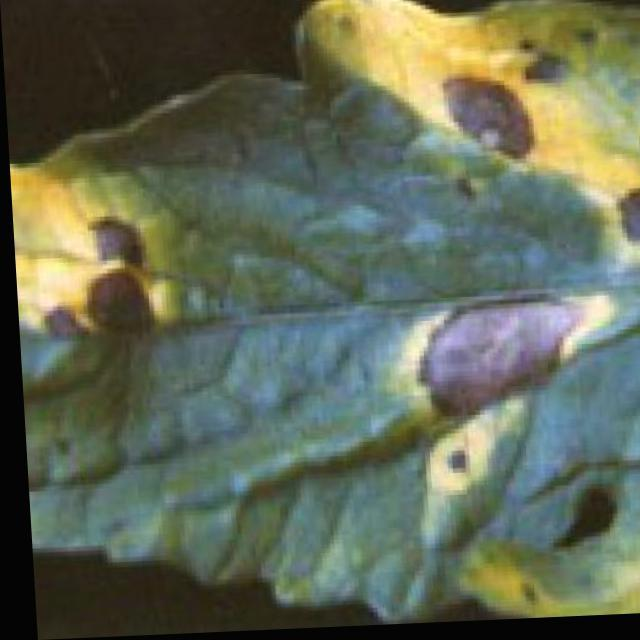Tomato Early blight leaf: (0, 0, 639, 618)
